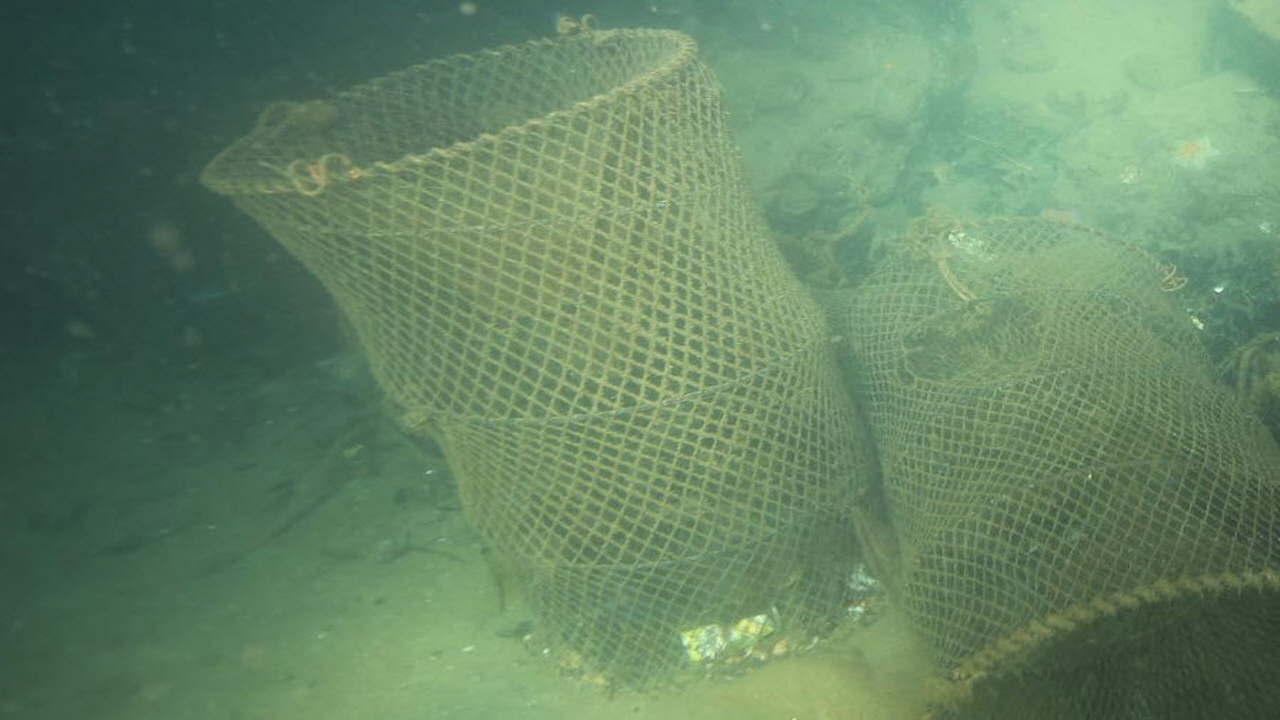spring fish trap: (197, 26, 887, 695), (839, 212, 1280, 720)
